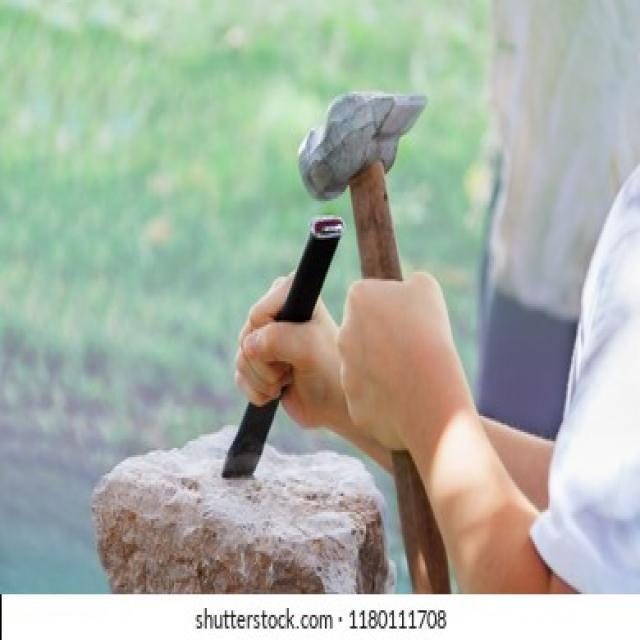hammer: (286, 74, 490, 605)
